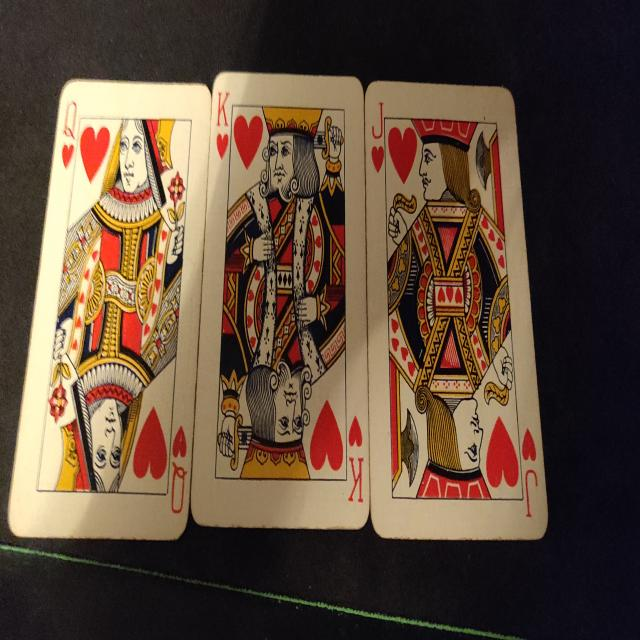Heart: (133, 406, 167, 480), (310, 399, 343, 472), (486, 416, 519, 487), (80, 126, 110, 184), (388, 126, 417, 184), (234, 114, 264, 170), (172, 426, 187, 458), (348, 415, 363, 447), (522, 428, 536, 461), (371, 146, 384, 174), (62, 144, 74, 170), (217, 134, 228, 160)
Jack: (525, 469, 538, 518), (372, 102, 384, 139)
King: (348, 457, 364, 503), (216, 92, 230, 127)
Queen: (171, 461, 187, 514), (63, 102, 77, 140)
